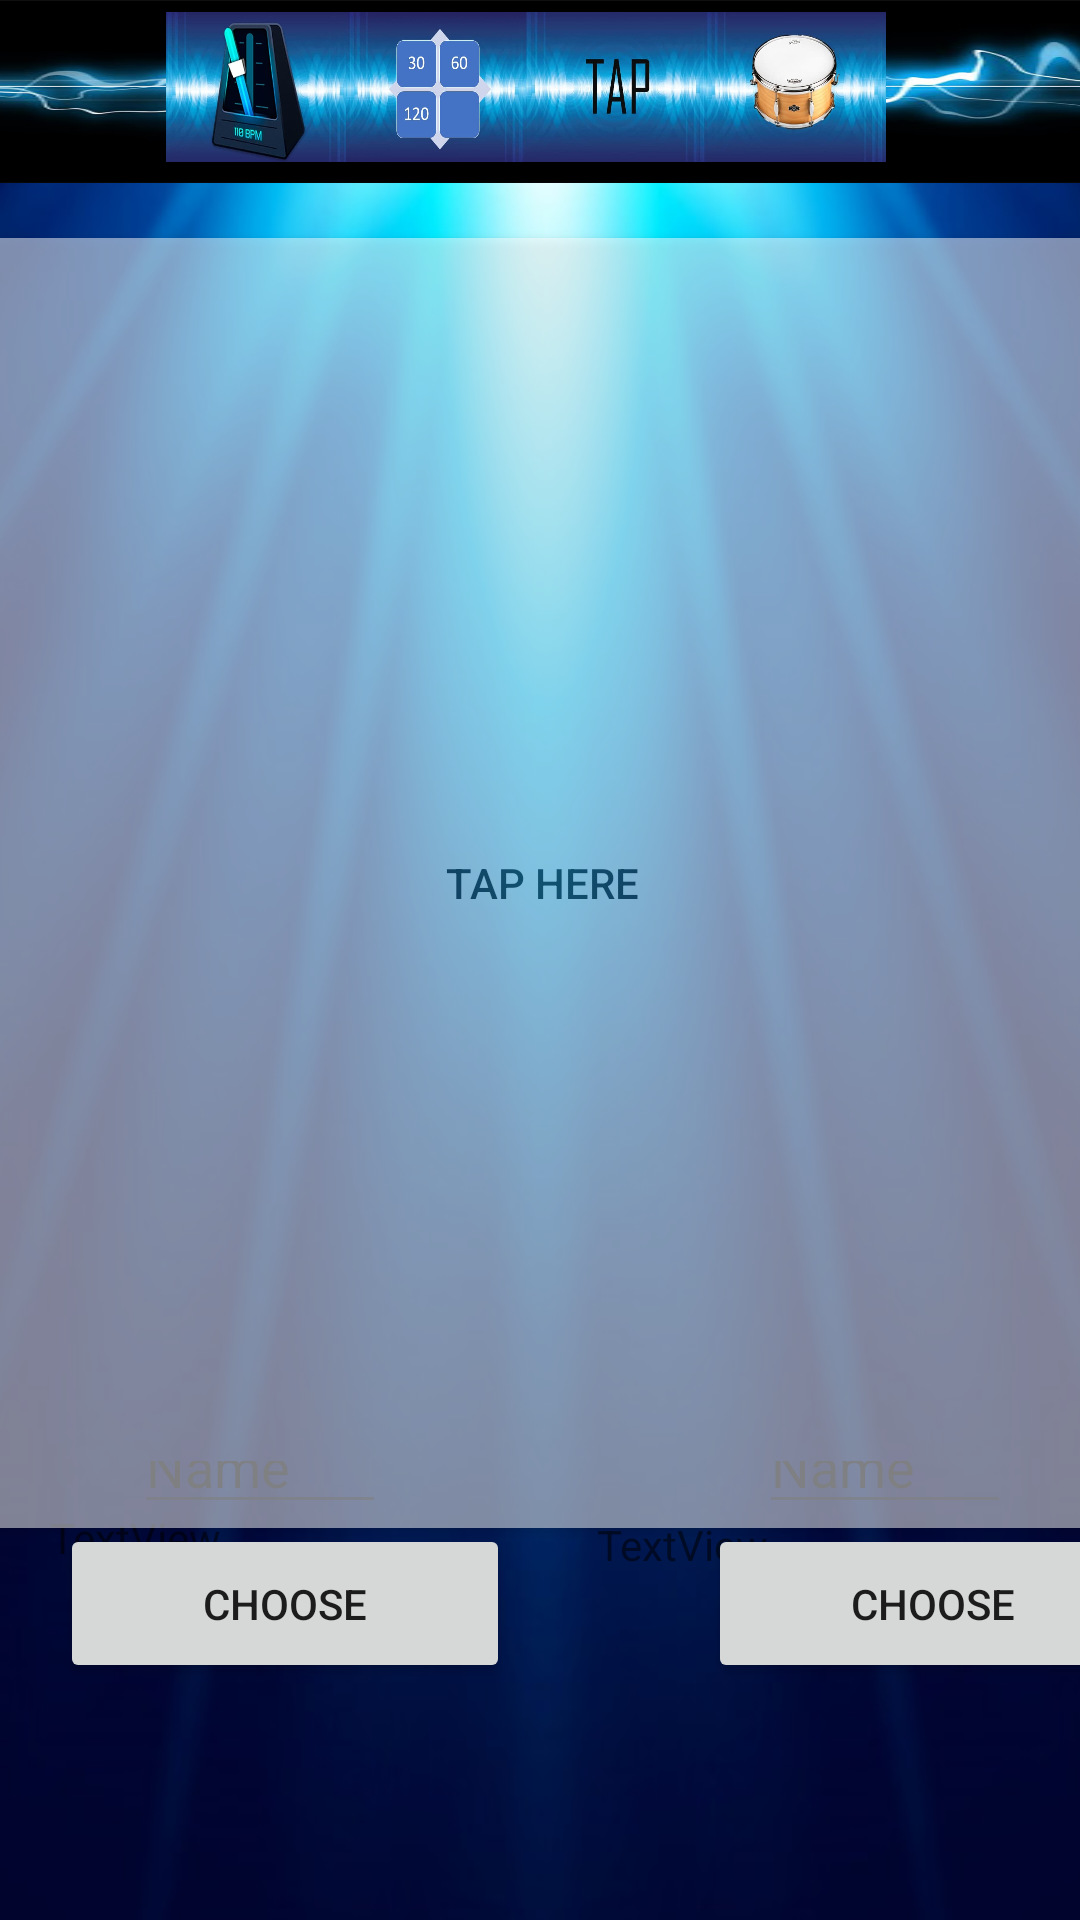

Screen size 1080w x 1920h. Icon name, then its center in pixels as (x=x, y=y):
matrix: (x=436, y=87)
metro: (x=256, y=87)
